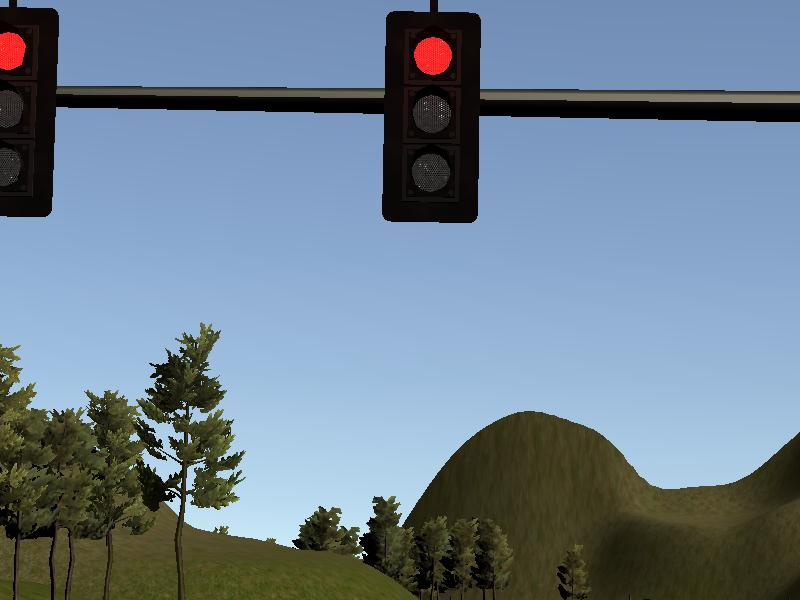red_light: (387, 11, 477, 219), (1, 8, 56, 217)
